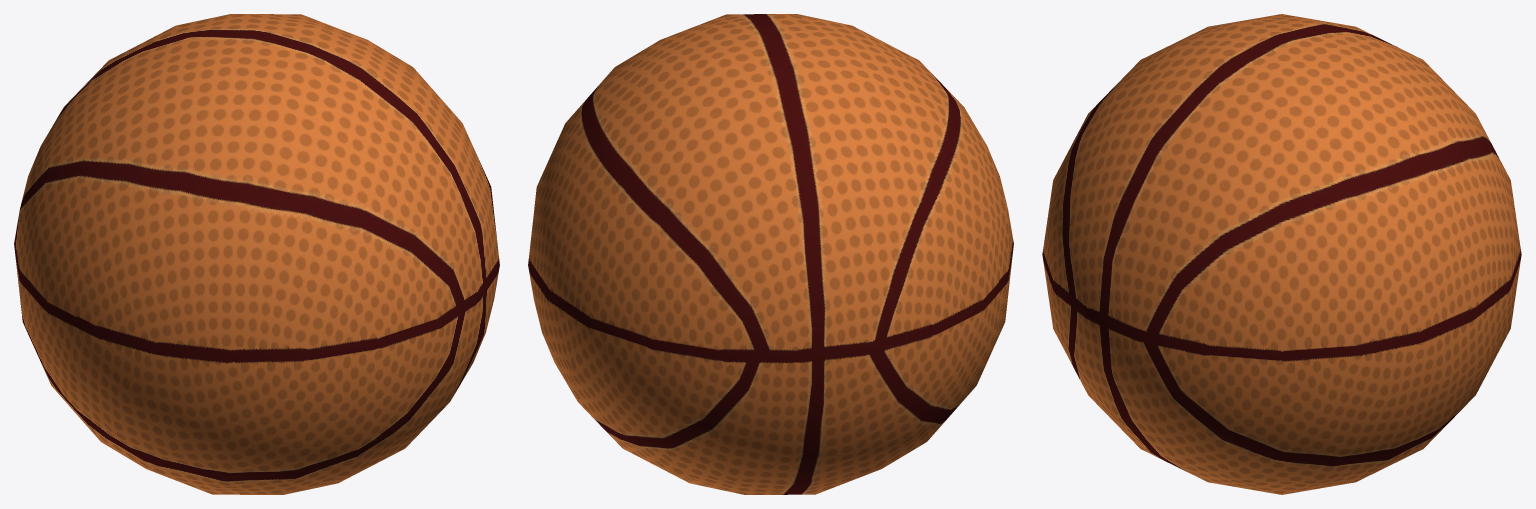
3 renders of one model, left to right at view 1: azimuth 30°, elevation 25°; view 2: azimuth 150°, elevation 25°; view 3: azimuth 270°, elevation 25°, orthographic.
Visible parts, largest first — view 1: ball; view 2: ball; view 3: ball.
Part boxes in pixels (<box>): ball: <box>14,14,499,494</box>; ball: <box>528,14,1013,494</box>; ball: <box>1042,14,1521,494</box>.
Size of the model in its own units: 32.02 by 31.89 by 31.89.
Materials: 1 (1 with a texture image).
